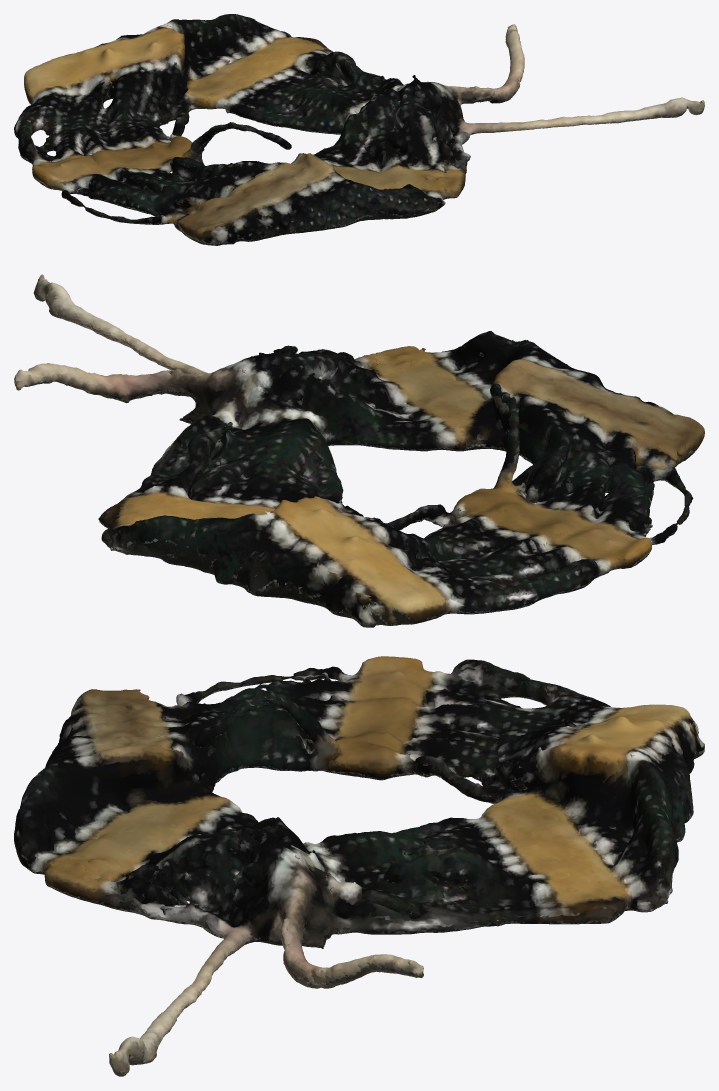
Rendered from Necklace_AnchiLin.glb.
3 renders of one model, top to bottom at view 1: azimuth 30°, elevation 25°; view 2: azimuth 150°, elevation 25°; view 3: azimuth 270°, elevation 25°, orthographic. The views are drawn at different scales.
Visible parts, largest first — view 1: object; view 2: object; view 3: object.
Part boxes in pixels (x1,y1,x2,y2): object: [14, 14, 704, 245]; object: [14, 274, 704, 627]; object: [14, 656, 704, 1076].
Size of the model in its own units: 135 by 14.27 by 97.09.
Materials: 1 (1 with a texture image).
